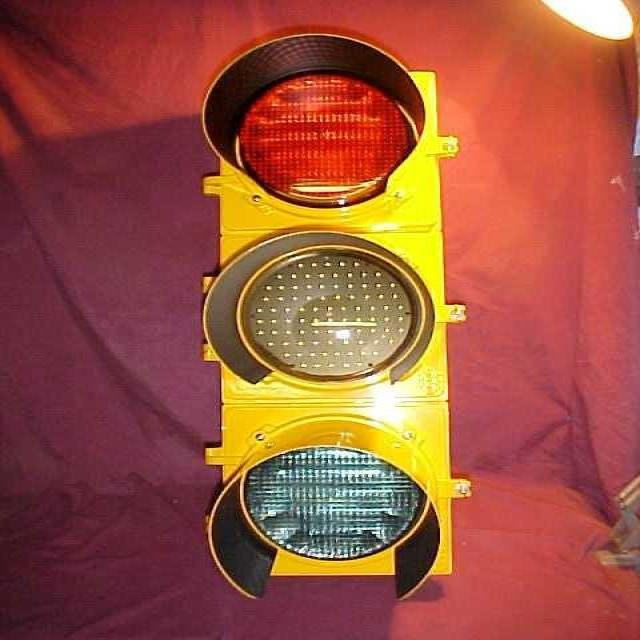Traffic Light -Off-: (196, 29, 448, 619)
